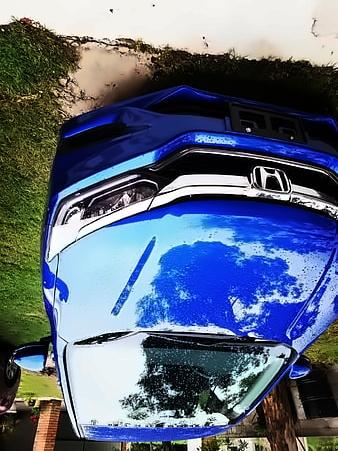Car hood: (51, 196, 338, 348)
Front bumper: (42, 84, 338, 224)
Headlight - -L-: (43, 170, 165, 265)
Side mirror - -L-: (8, 336, 64, 380)
Side mirror - -R-: (283, 356, 316, 383)
